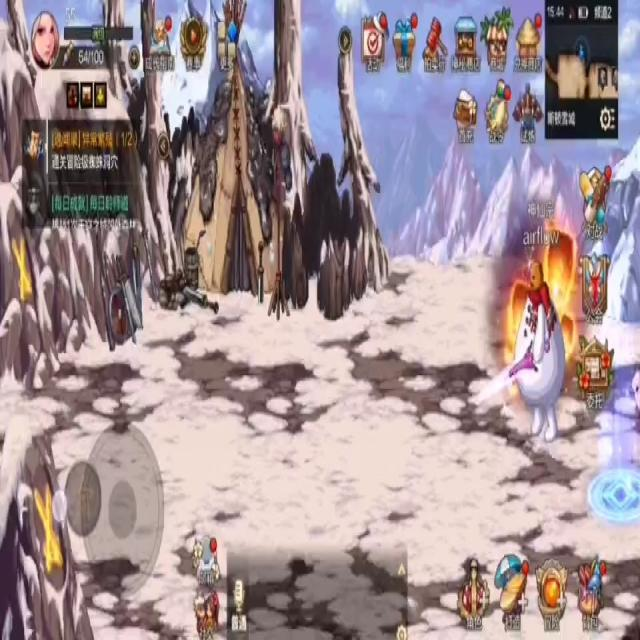player: (519, 258, 569, 451)
